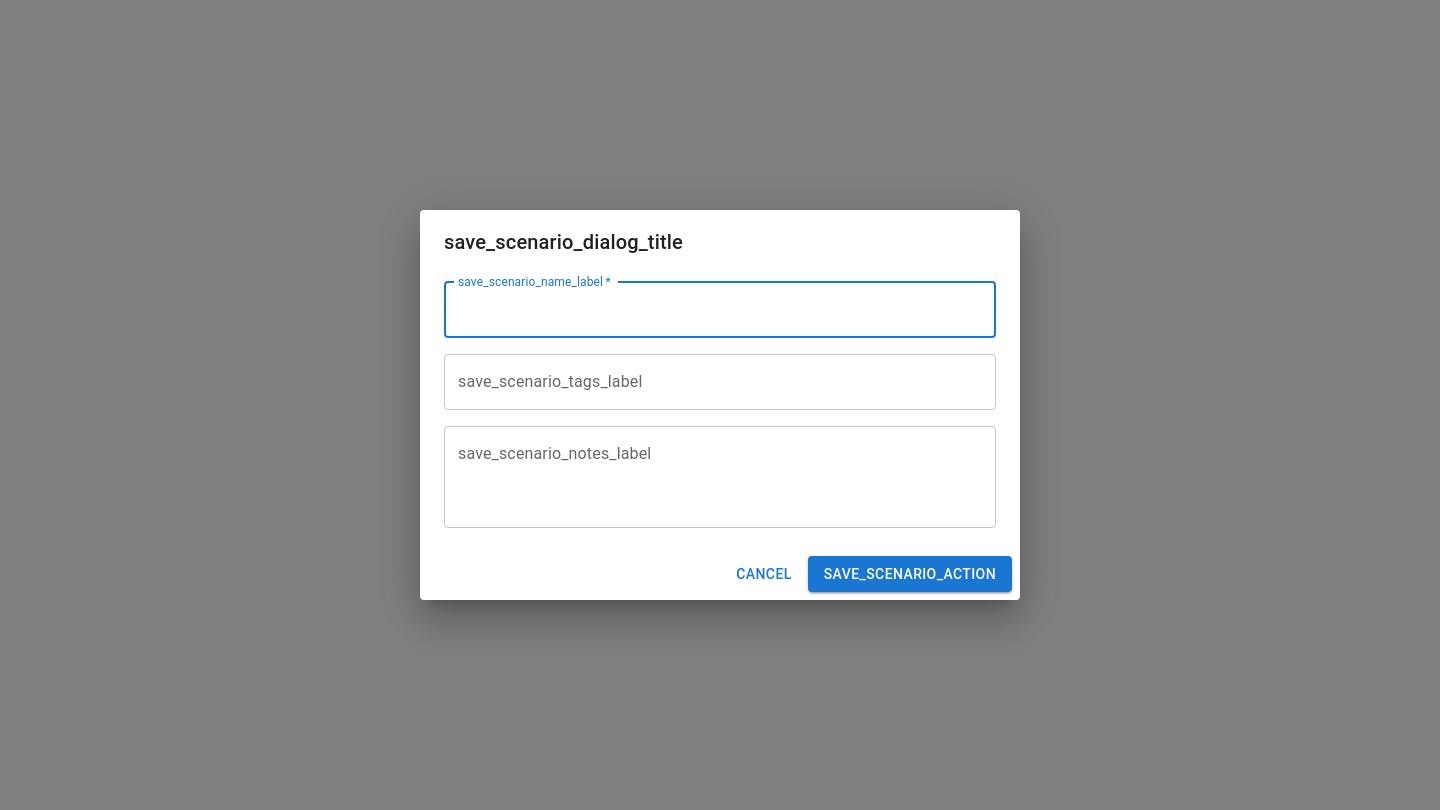
Test case: SaveScenarioDialog › surfaces a validation error when the name is blank
Click the button "save_scenario_action". click: (910, 574)
box: [808,556,1012,592]
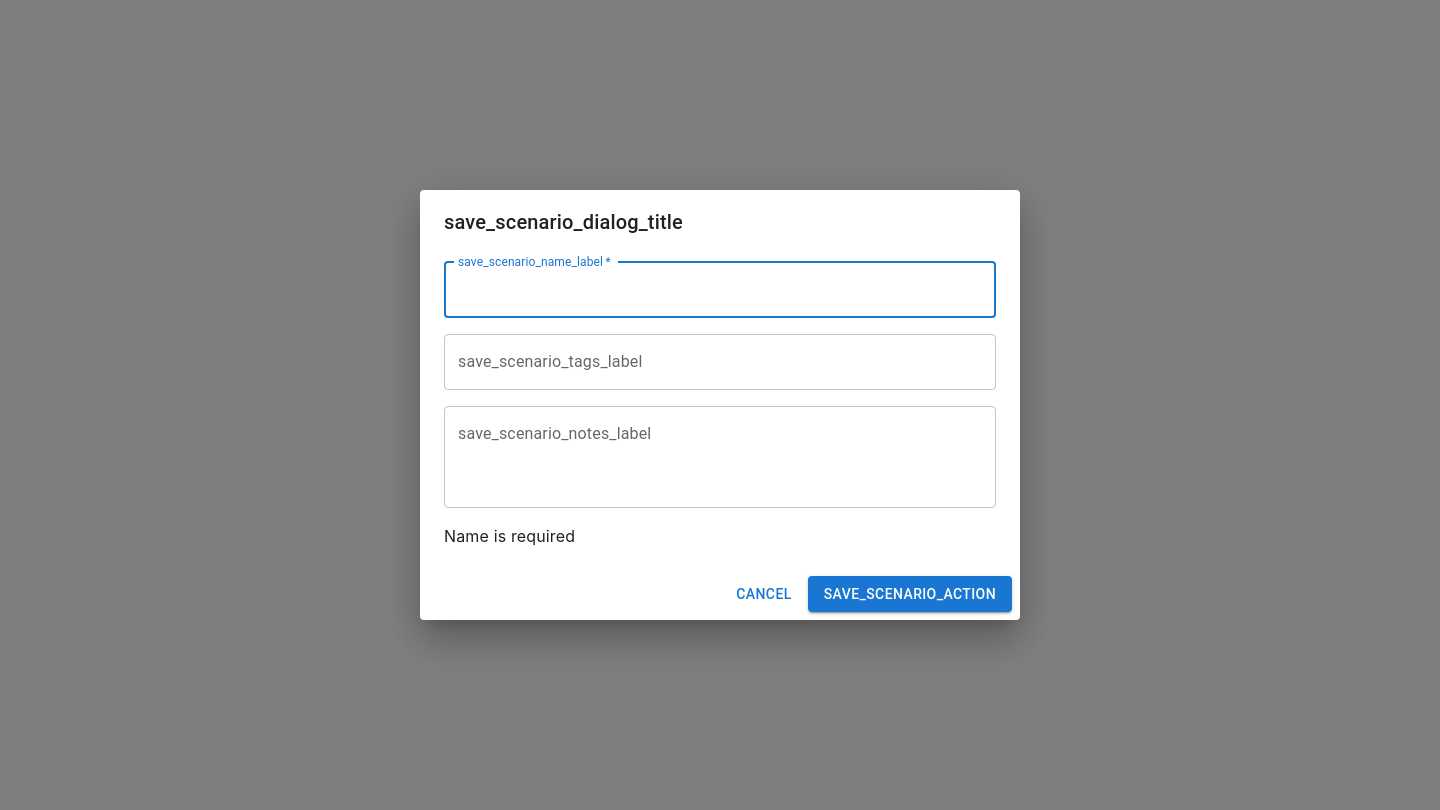
Check: the message reads "Name is required", box [444,526,575,546]
